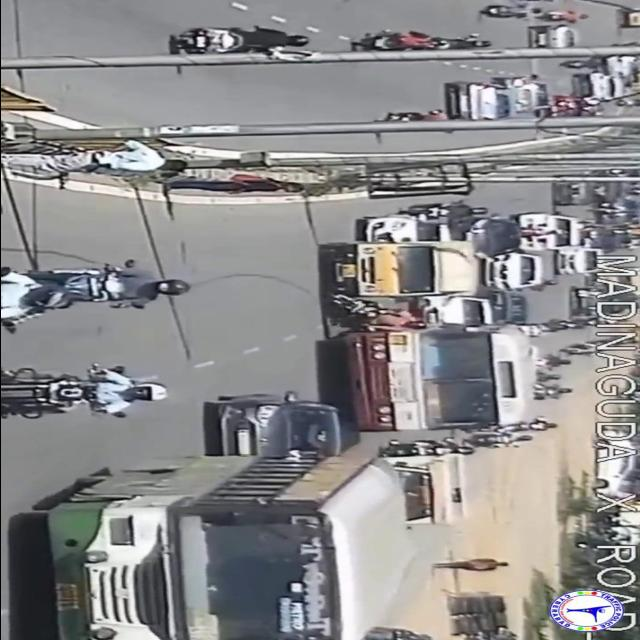accident: (308, 232, 552, 438)
non_accident: (0, 385, 469, 640), (483, 169, 640, 306), (440, 59, 640, 120)
